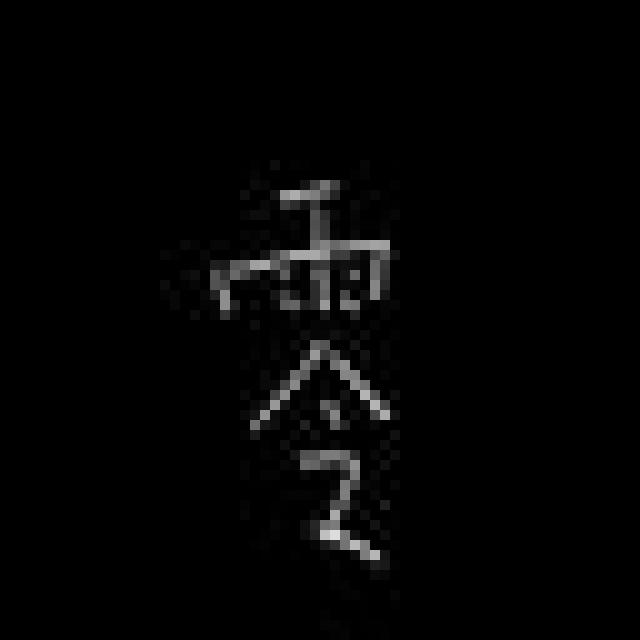0 -zero-: (194, 163, 401, 577)
